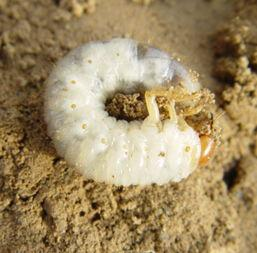grub: (40, 36, 231, 193)
